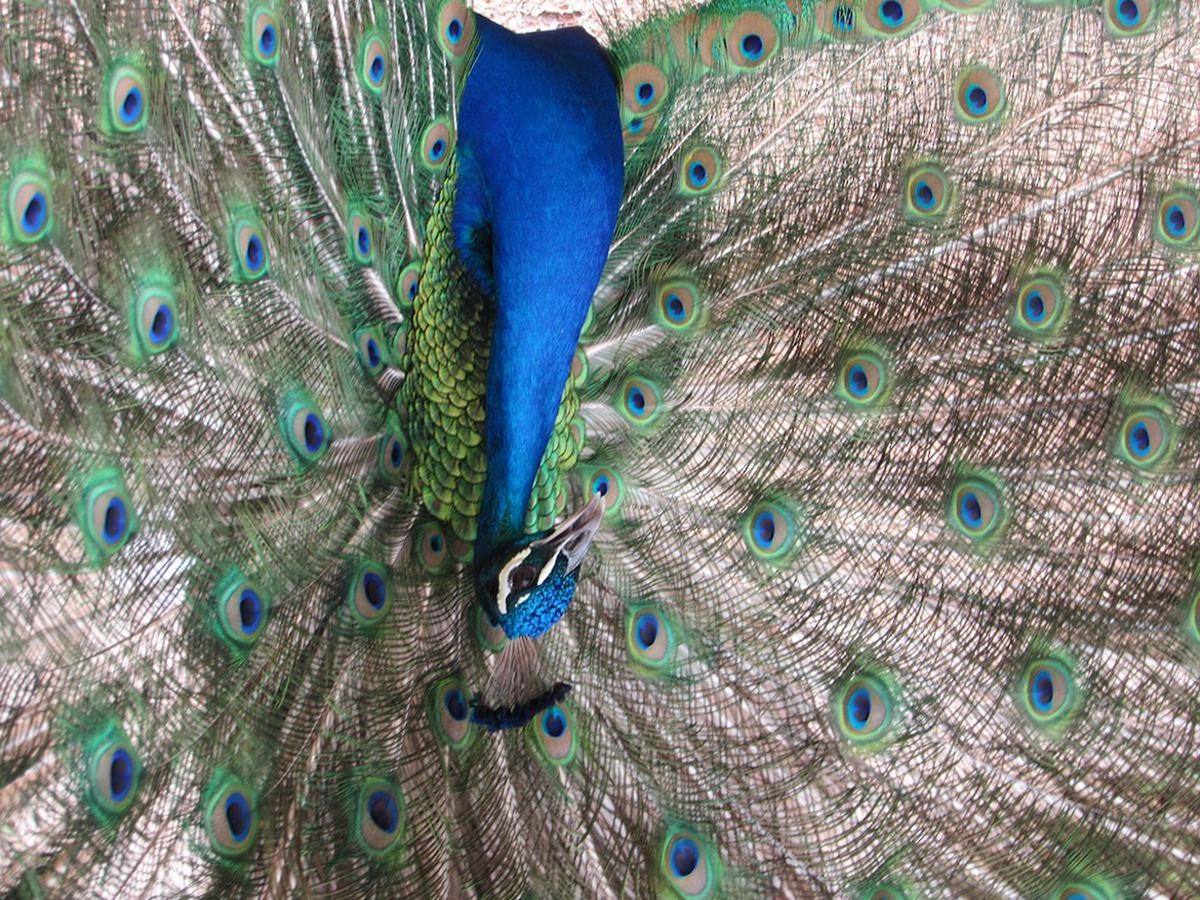peacock: (1, 1, 1129, 880)
